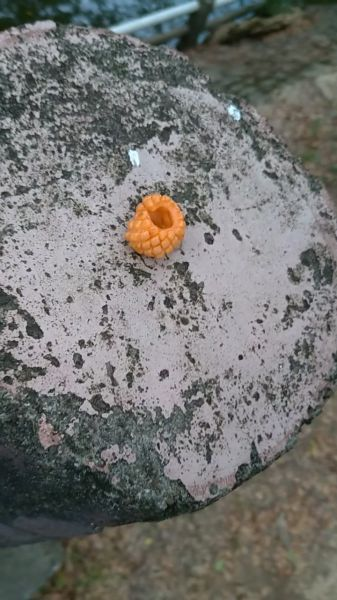eggs: (117, 184, 192, 263)
